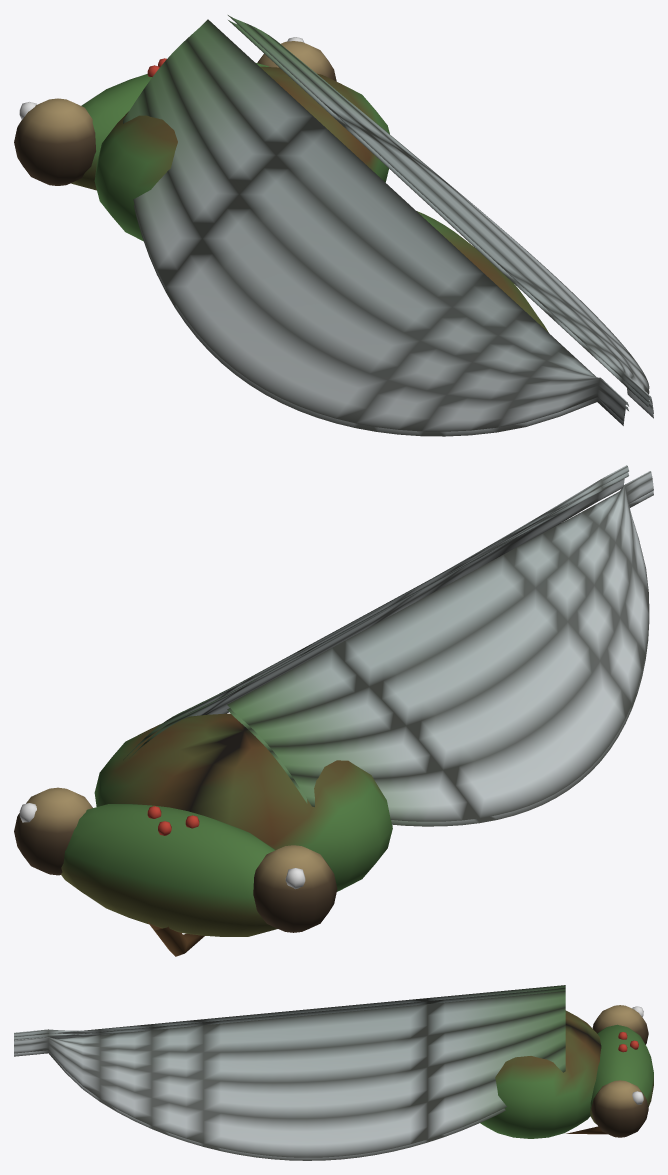
File: Higurashi.fbx
3 renders of one model, top to bottom at view 1: azimuth 30°, elevation 25°; view 2: azimuth 150°, elevation 25°; view 3: azimuth 270°, elevation 25°, orthographic. The views are drawn at different scales.
Visible parts, largest first — view 1: Higurashi; view 2: Higurashi; view 3: Higurashi.
Part boxes in pixels (x1=…): Higurashi: x1=14, y1=15, x2=653, y2=436; Higurashi: x1=14, y1=465, x2=653, y2=956; Higurashi: x1=14, y1=985, x2=653, y2=1160.
Bounding box in the file's own units: 0.8799 × 0.5627 × 2.23.
